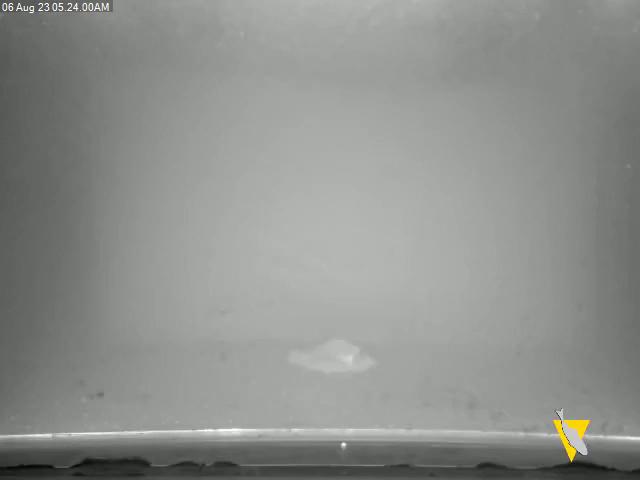\uBD95\uC5B4: (253, 324, 387, 383)
